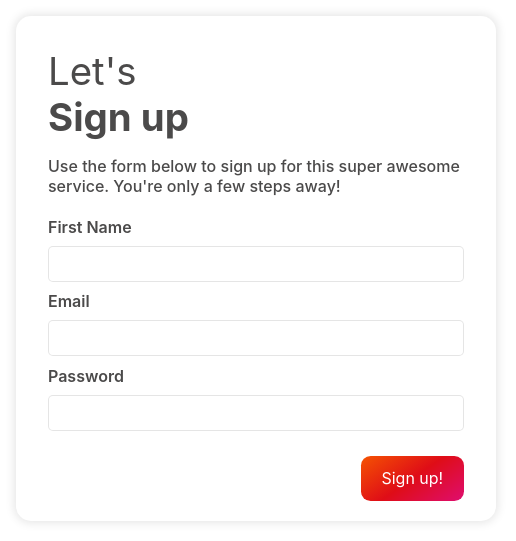
Test: empty fields show errors
This screenshot has width=516, height=541.
Click the button with test id "button": click(412, 478) x1=361 y1=456 x2=464 y2=501
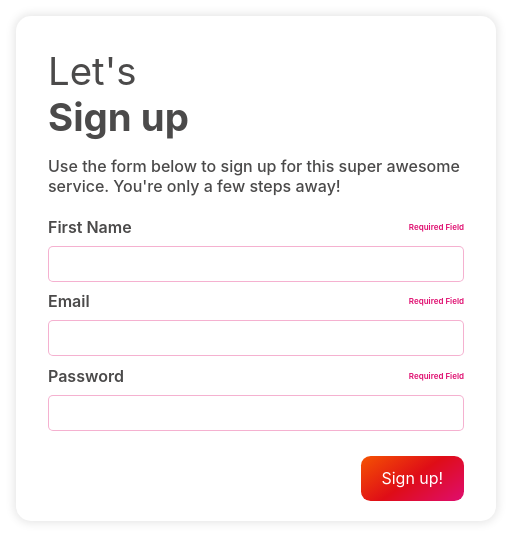
Expected: the element with test id "firstName" shows "Required", x1=409 y1=222 x2=464 y2=232
Expected: the element with test id "email" shows "Required", x1=409 y1=296 x2=464 y2=306
Expected: the element with test id "password" shows "Required", x1=409 y1=371 x2=464 y2=381
